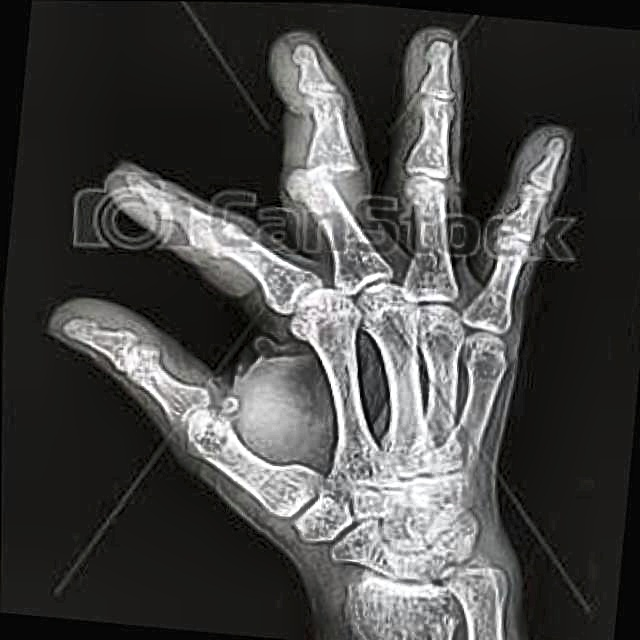Transverse: (273, 143, 371, 211)
